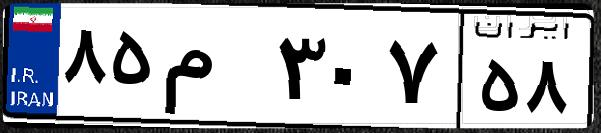0: (330, 28, 385, 110)
3: (270, 28, 330, 110)
5: (475, 38, 525, 113), (110, 28, 158, 98)
7: (385, 28, 445, 110)
8: (57, 26, 110, 100), (525, 38, 570, 115)
م: (158, 20, 270, 120)
